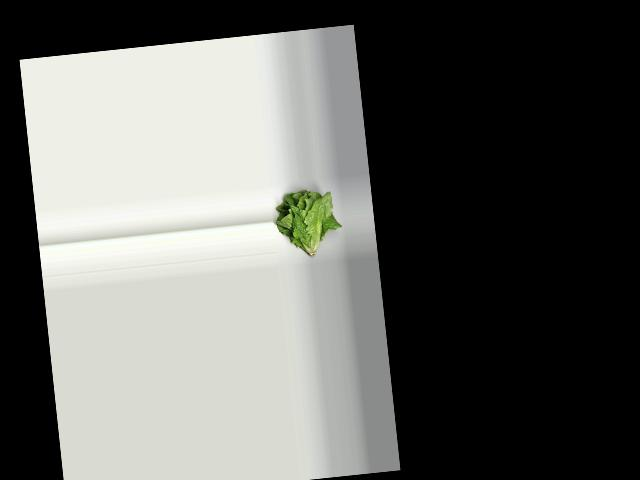lettuce: (268, 183, 343, 265)
